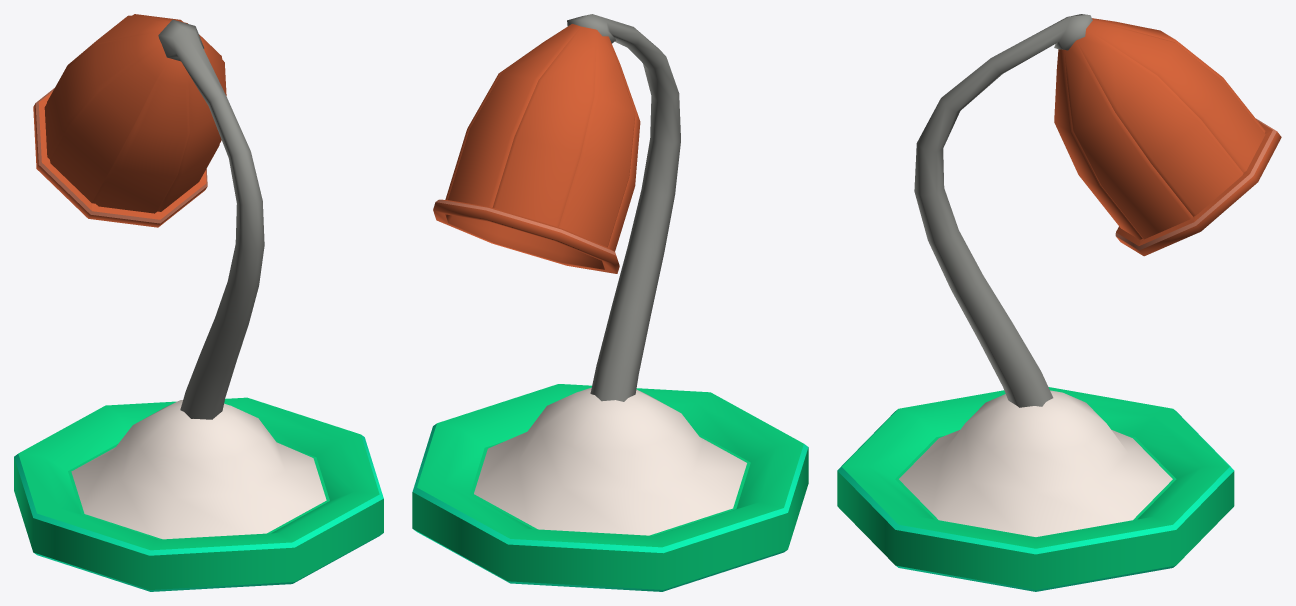
File: TableLamp.fbx
The picture shows the model from 3 angles, left to right: view 1: azimuth 30°, elevation 25°; view 2: azimuth 150°, elevation 25°; view 3: azimuth 270°, elevation 25°; orthographic projection. The views are drawn at different scales.
Visible parts, largest first — view 1: TableLamp; view 2: TableLamp; view 3: TableLamp.
Boxes of the visible parts, left/top/right/bottom form: TableLamp: left=14, top=14, right=383, bottom=591; TableLamp: left=412, top=14, right=808, bottom=591; TableLamp: left=837, top=14, right=1281, bottom=591.
Size of the model in its own units: 0.9782 by 1.2 by 0.8741.
